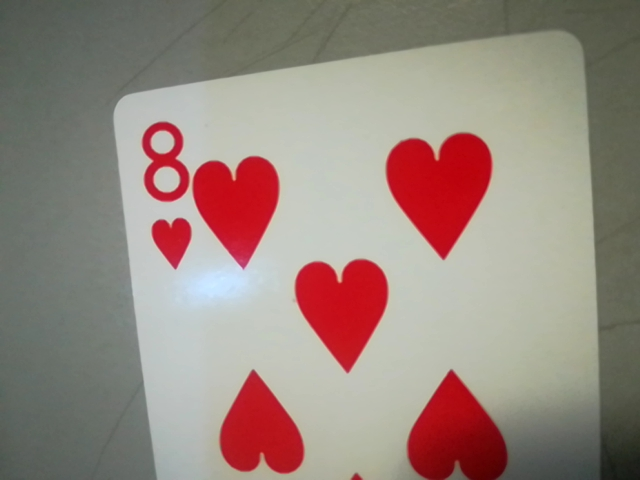hx 8: (125, 107, 198, 277)
